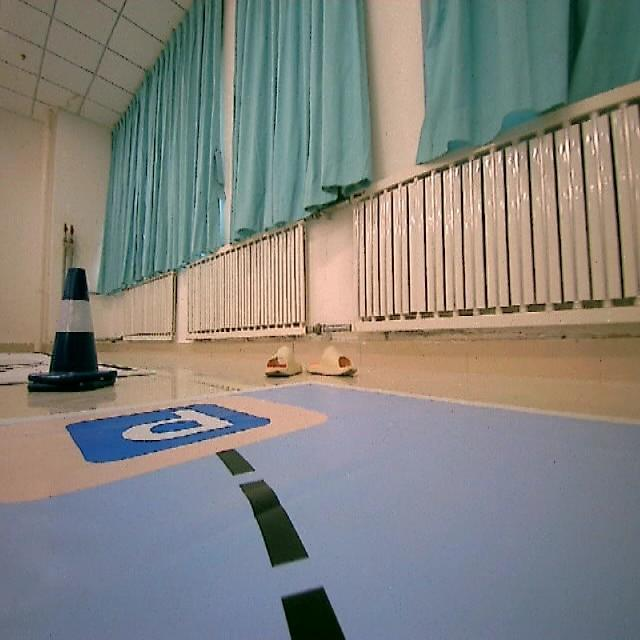obstacle: (18, 260, 119, 400)
